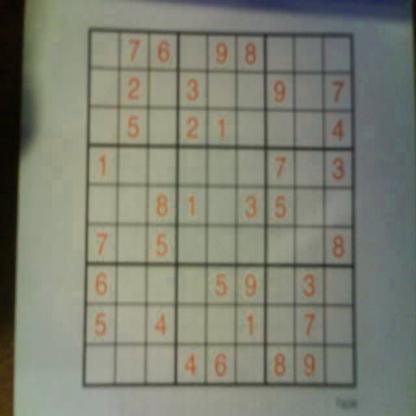sudoku: (77, 25, 362, 394)
